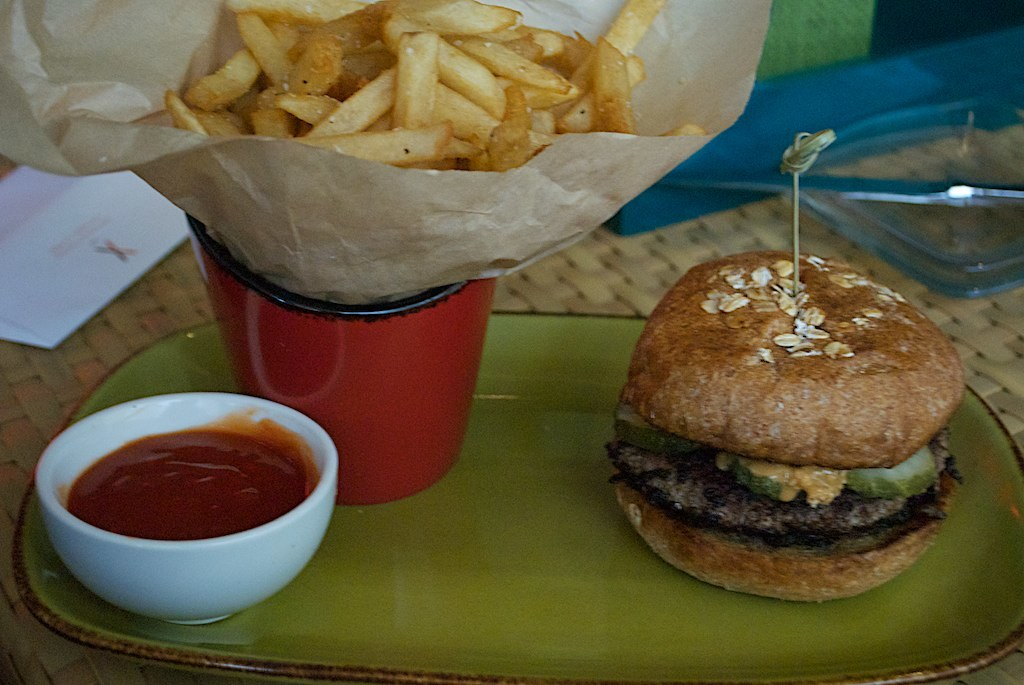French fries: (158, 3, 688, 174)
